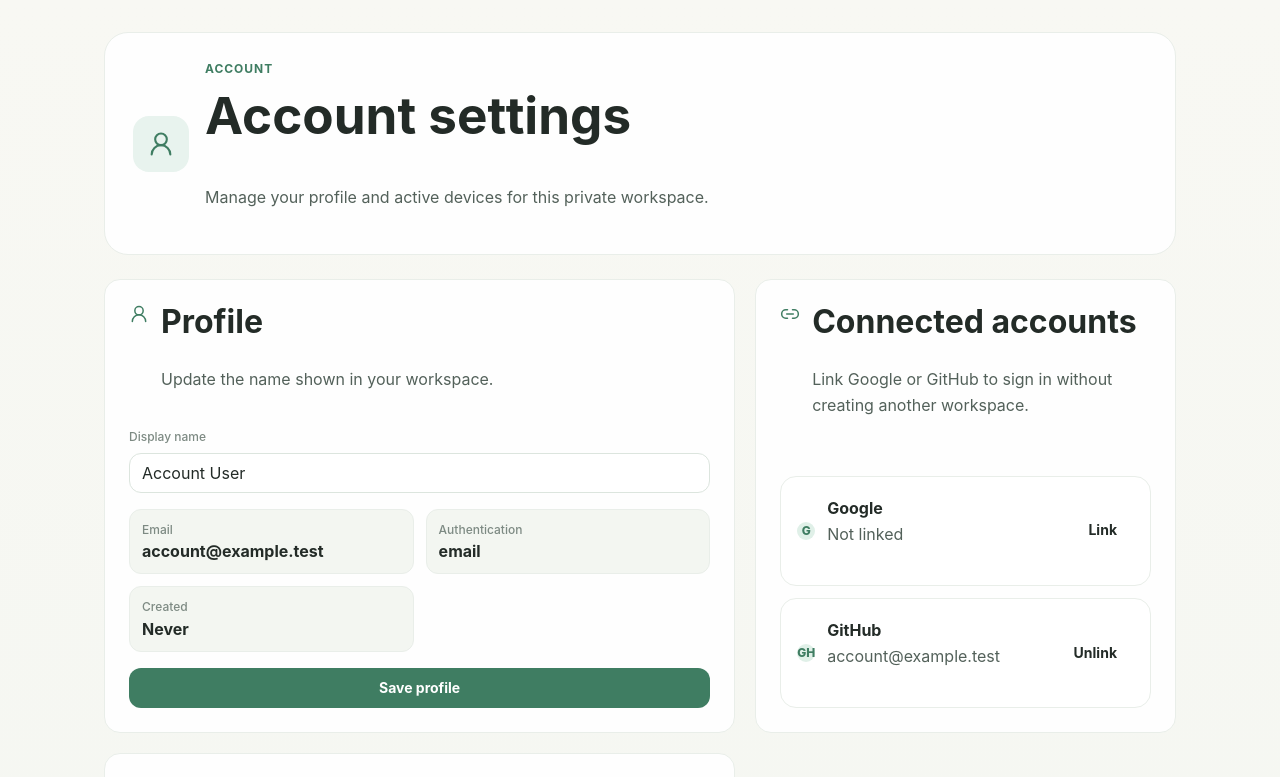
Test: AccountPage › updates display name and shows a toast
This screenshot has width=1280, height=777.
Replace the text in the field showing "Account User" with "Renamed User" at (420, 473), box [129,453,710,493]
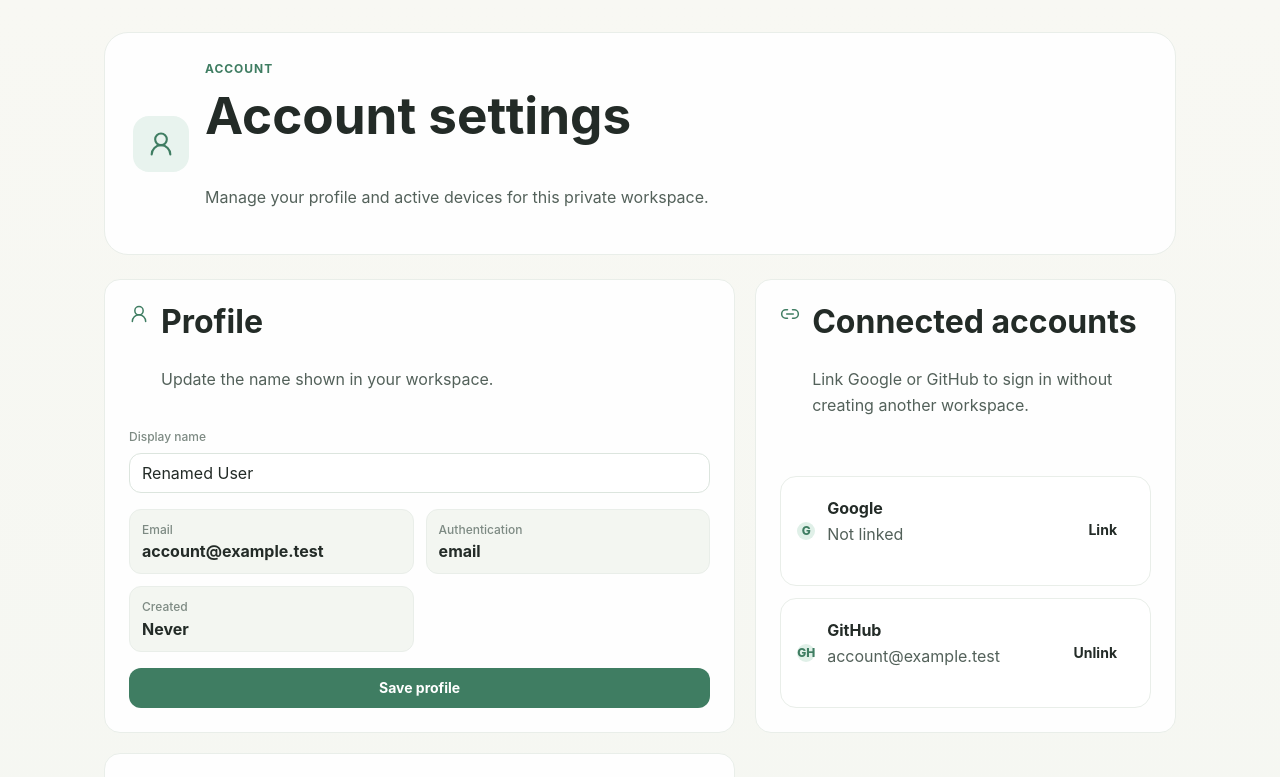
Click the button "Save profile" at (420, 688), box [129,668,710,708]
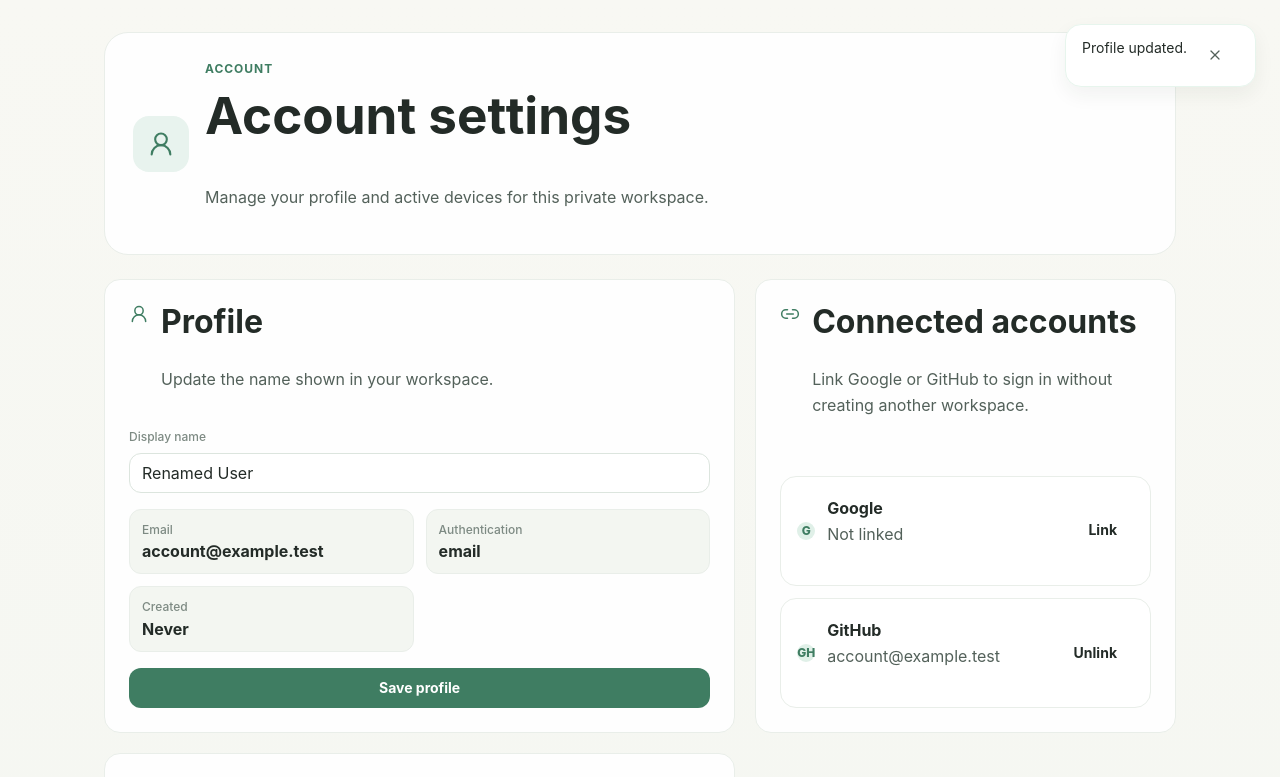
Expected: the text "Profile updated." is shown, [1082,37,1187,60]
